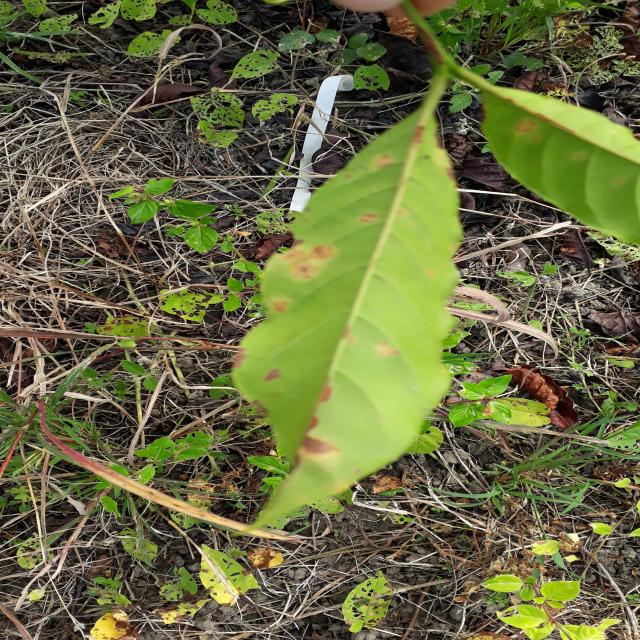Enfermedad-Roya: (232, 0, 462, 534)
